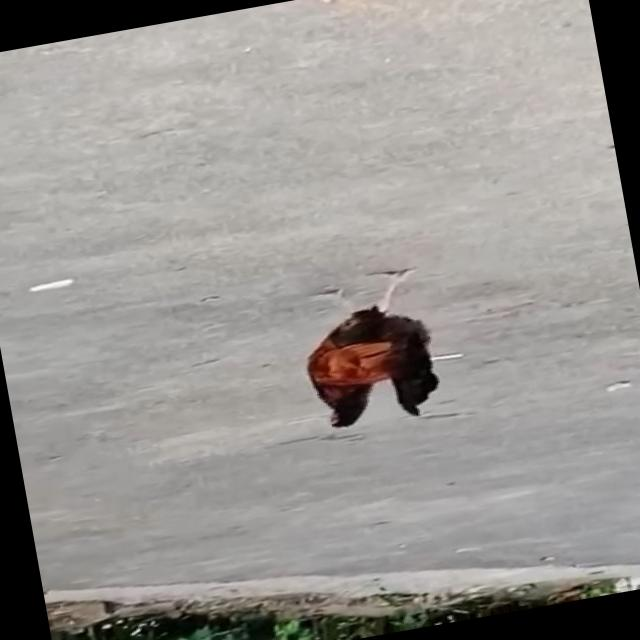walking: (268, 258, 472, 458)
